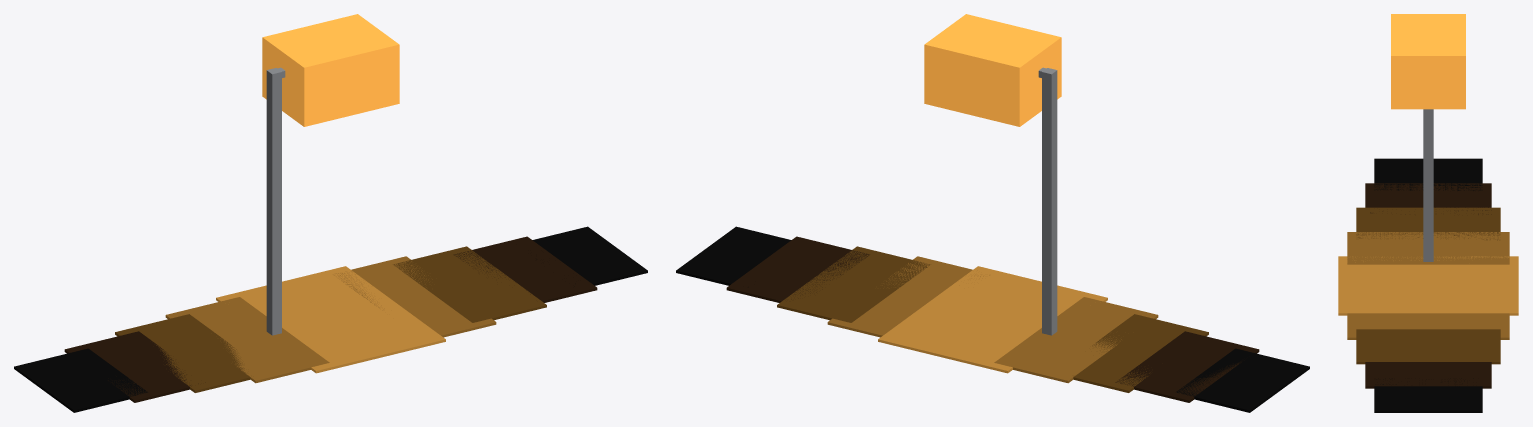
The model's file is prop_lamp_post.glb.
The picture shows the model from 3 angles, left to right: view 1: azimuth 30°, elevation 25°; view 2: azimuth 150°, elevation 25°; view 3: azimuth 270°, elevation 25°; orthographic projection. The views are drawn at different scales.
Parts seen in each view (by area): view 1: prop_lamp_post; view 2: prop_lamp_post; view 3: prop_lamp_post.
Part boxes in pixels (<box>): prop_lamp_post: <box>14,14,647,412</box>; prop_lamp_post: <box>676,14,1309,412</box>; prop_lamp_post: <box>1338,14,1518,412</box>.
Bounding box in the file's own units: 0.9926 × 0.467 × 0.3.
